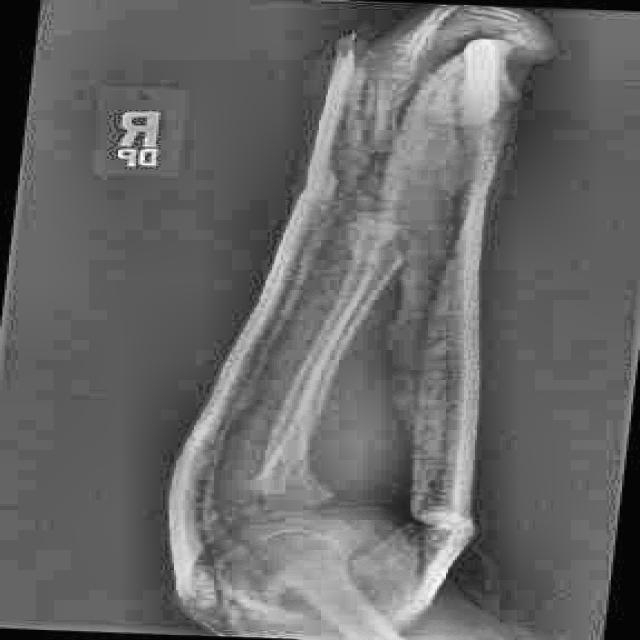forearm fracture: (312, 240, 431, 304)
